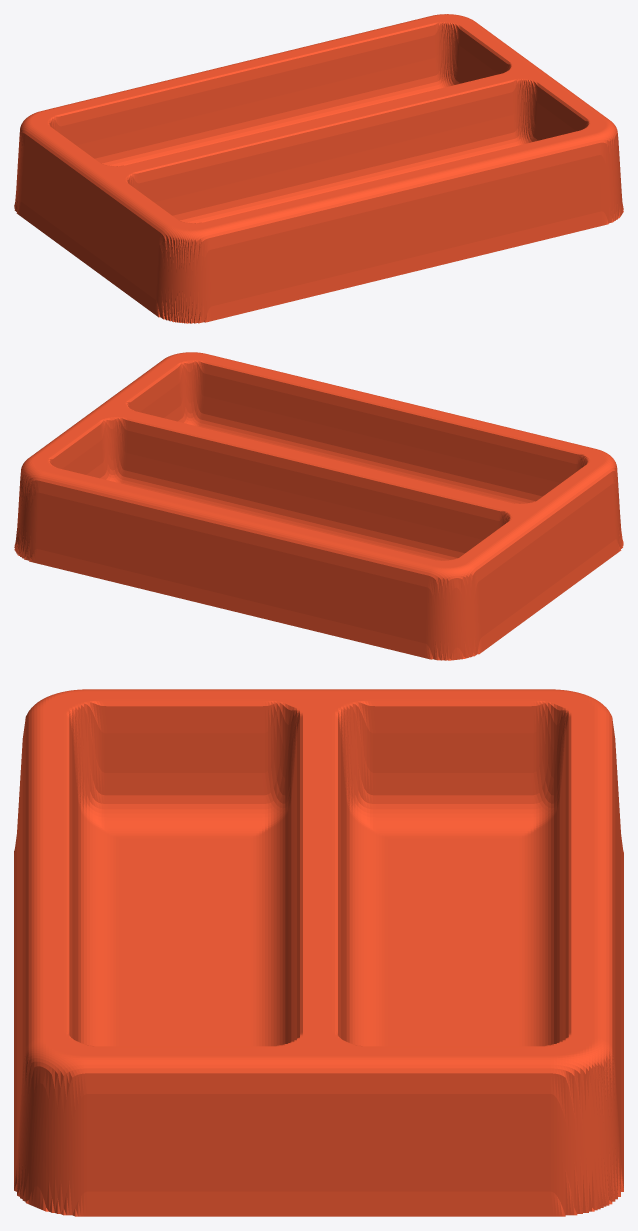
File: mold.glb
3 views of the same model, one above another, from view 1: azimuth 30°, elevation 25°; view 2: azimuth 150°, elevation 25°; view 3: azimuth 270°, elevation 25° (orthographic). The views are drawn at different scales.
Visible parts, largest first — view 1: geometry_0; view 2: geometry_0; view 3: geometry_0.
Part boxes in pixels (x1=…): geometry_0: x1=14, y1=14, x2=623, y2=323; geometry_0: x1=14, y1=352, x2=623, y2=660; geometry_0: x1=14, y1=689, x2=623, y2=1216.
Size of the model in its own units: 0.1158 by 0.0205 by 0.0766.
